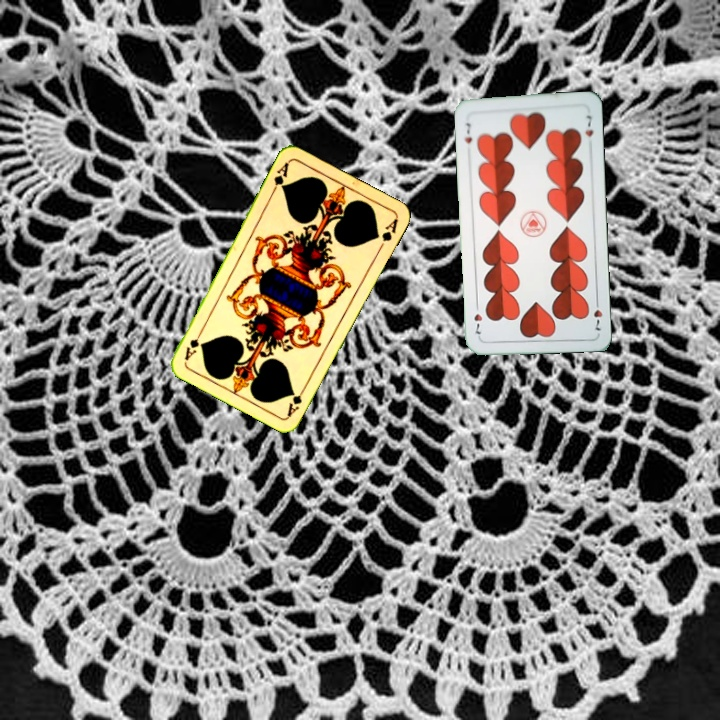GA: (283, 381, 309, 419), (268, 158, 292, 196)
H7: (590, 294, 605, 333), (460, 119, 475, 146)
